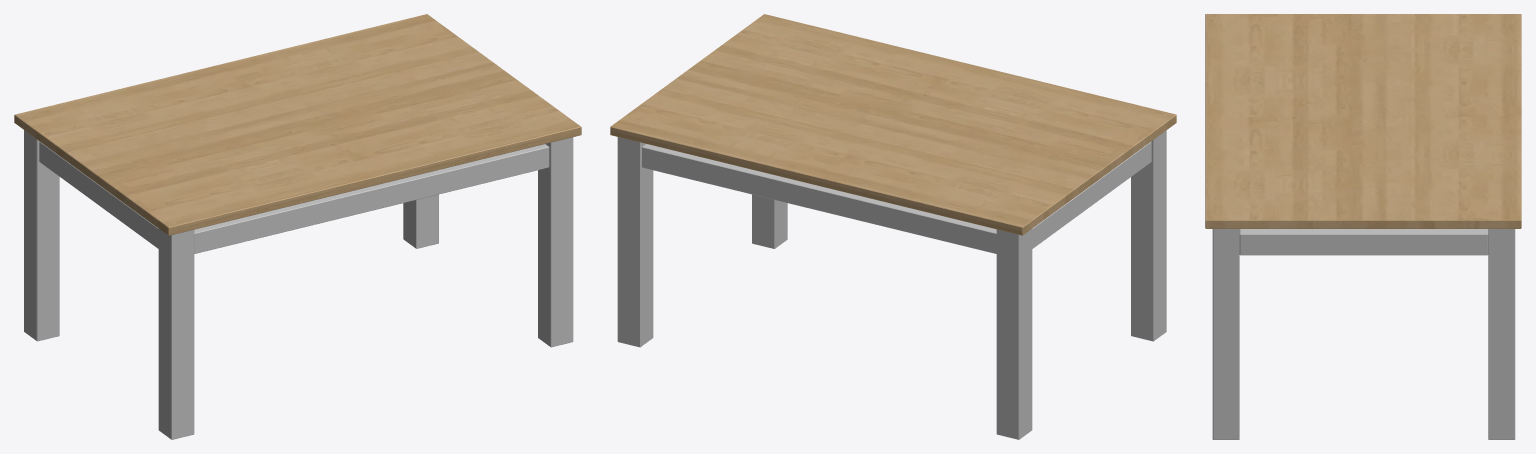
The model's file is table_rustic.glb.
3 views of the same model, side by side, from view 1: azimuth 30°, elevation 25°; view 2: azimuth 150°, elevation 25°; view 3: azimuth 270°, elevation 25° (orthographic). The views are drawn at different scales.
Parts seen in each view (by area): view 1: Tabletop, TableCross_0048, TableCross_0046, TableCross_0047; view 2: Tabletop, TableCross_0048, TableCross_0046, TableCross_0047; view 3: Tabletop, TableCross_0048, TableCross_0047.
Part boxes in pixels (x1,y1,x2,y2): Tabletop: (14,14,581,235); TableCross_0048: (24,130,573,439); TableCross_0046: (194,144,549,253); TableCross_0047: (39,141,158,248); Tabletop: (610,14,1176,235); TableCross_0048: (617,130,1166,439); TableCross_0046: (642,144,996,253); TableCross_0047: (1032,142,1151,248); Tabletop: (1205,14,1521,228); TableCross_0048: (1212,229,1515,439); TableCross_0047: (1239,229,1488,255).
Size of the model in its own units: 1.75 by 0.8773 by 1.13.
2 materials, 2 textured.
